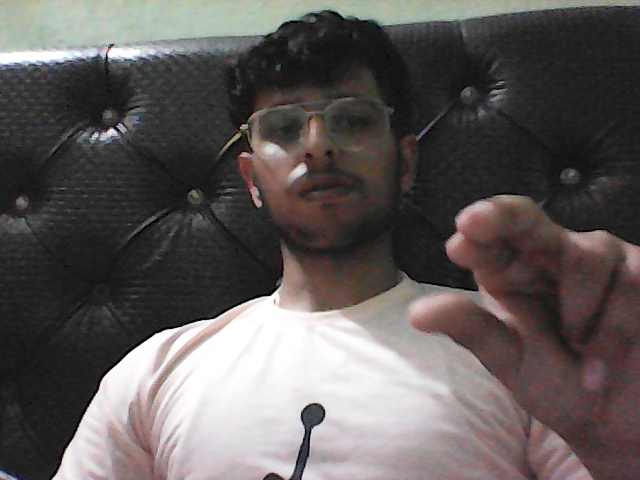no: (392, 183, 640, 460)
